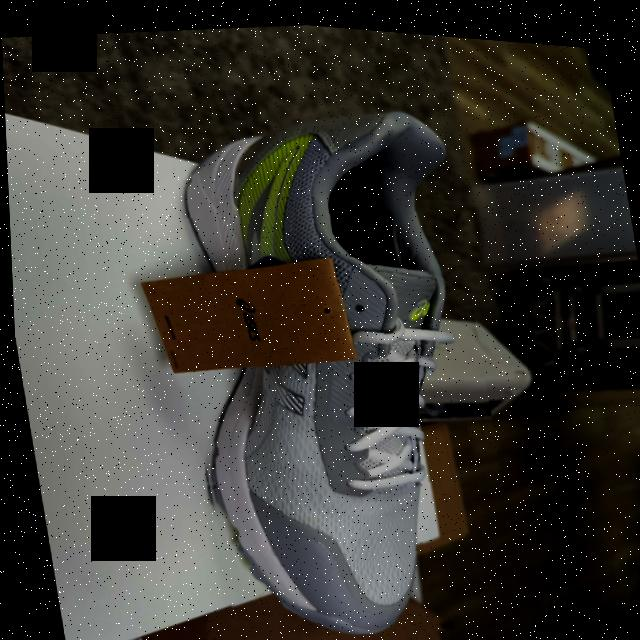shoe: (141, 78, 521, 640)
